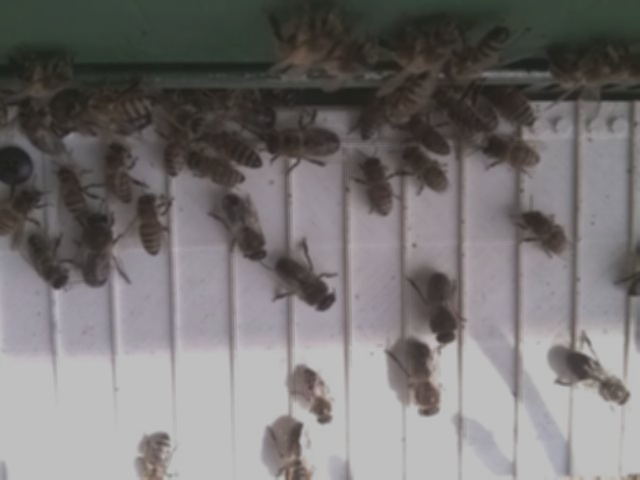Drone: (564, 348, 634, 410), (270, 255, 339, 316), (217, 189, 270, 266), (262, 124, 344, 166), (405, 338, 444, 423), (79, 210, 118, 293), (426, 269, 460, 348)
Worker: (522, 207, 572, 262), (478, 136, 543, 174), (362, 156, 398, 222), (135, 186, 166, 262), (52, 165, 91, 225), (401, 149, 450, 196), (302, 364, 337, 428), (187, 154, 247, 190), (213, 129, 263, 172), (158, 120, 193, 181), (0, 192, 44, 239), (105, 140, 135, 207)
